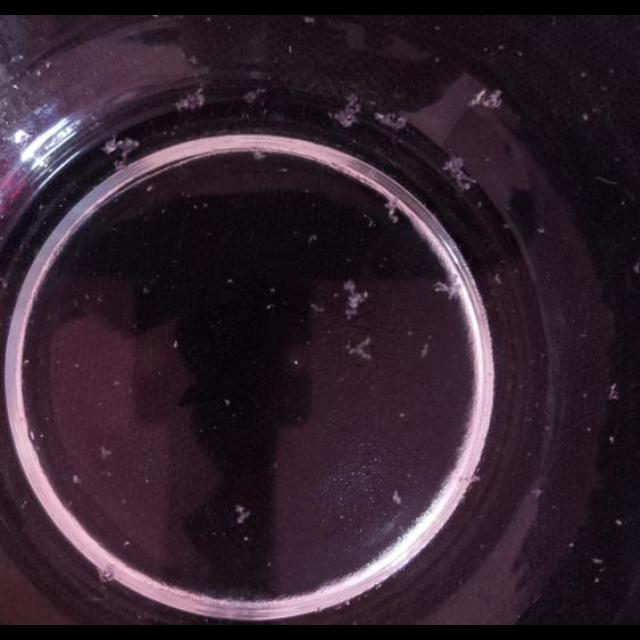Fibre: (440, 156, 476, 192), (331, 94, 364, 128), (341, 280, 369, 320), (100, 136, 138, 164), (468, 86, 504, 110), (174, 86, 206, 112), (345, 336, 373, 362), (434, 279, 461, 303), (383, 199, 401, 221), (242, 88, 264, 106), (236, 504, 250, 524), (100, 445, 114, 459)
microbeads: (608, 382, 620, 400), (419, 342, 429, 360), (391, 490, 401, 506), (493, 272, 503, 286), (530, 488, 544, 498), (308, 233, 318, 243), (72, 474, 80, 486), (536, 226, 546, 234), (28, 430, 36, 440), (582, 112, 590, 121), (224, 398, 232, 407), (592, 558, 604, 564), (146, 184, 154, 192), (266, 302, 274, 310), (615, 518, 623, 526), (123, 540, 131, 548), (173, 338, 179, 348), (272, 460, 278, 470), (46, 60, 52, 70), (399, 411, 406, 419), (226, 278, 234, 284), (580, 70, 586, 78), (582, 392, 588, 400), (586, 426, 592, 434), (595, 576, 601, 584), (609, 436, 615, 442), (24, 358, 30, 364), (569, 543, 575, 549), (498, 44, 504, 50)
